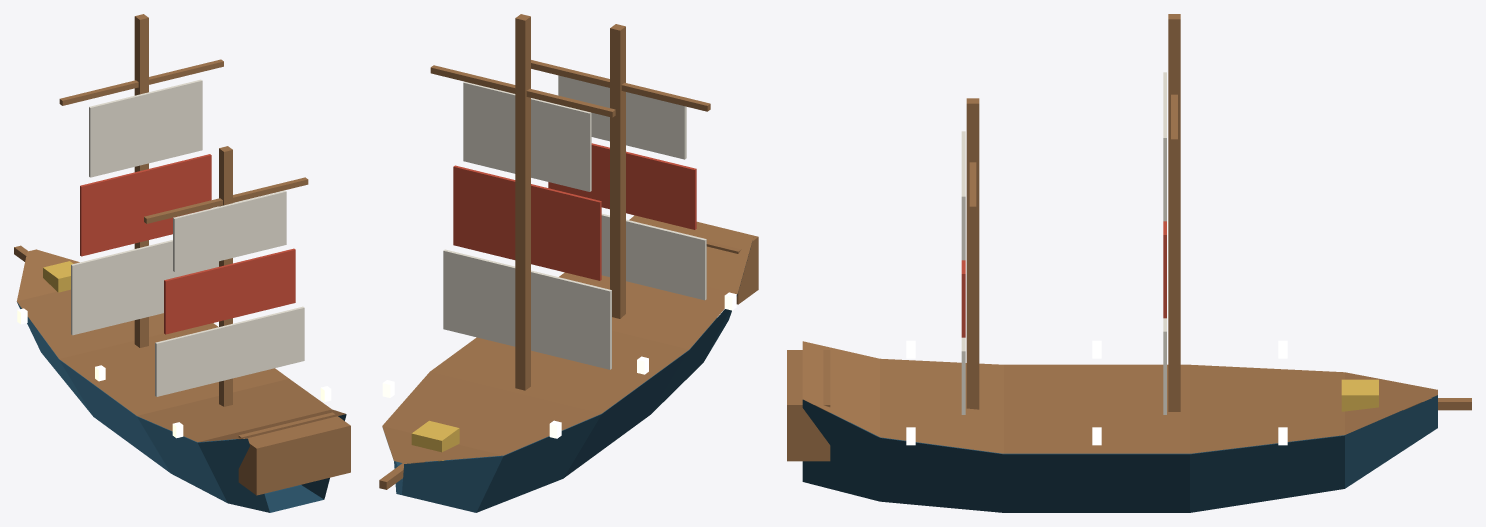
The model's file is ship.glb.
The picture shows the model from 3 angles, left to right: view 1: azimuth 30°, elevation 25°; view 2: azimuth 150°, elevation 25°; view 3: azimuth 270°, elevation 25°; orthographic projection. The views are drawn at different scales.
Parts seen in each view (by area): view 1: LOD0; view 2: LOD0; view 3: LOD0.
Boxes of the visible parts, bbox=[...] form: LOD0: bbox=[14, 14, 350, 512]; LOD0: bbox=[379, 14, 758, 512]; LOD0: bbox=[787, 14, 1471, 512].
Size of what is drawn, in the model's own units: 7.2 by 16.8 by 22.1.
